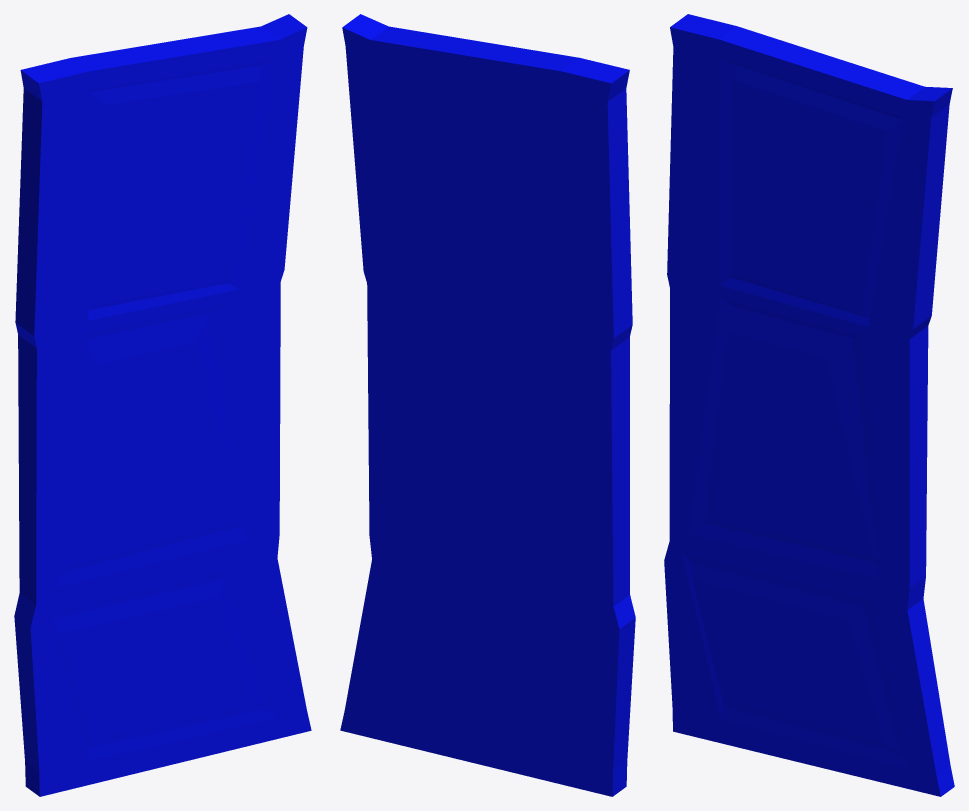
Rendered from DOUBLE_DOOR_LEFT.fbx.
3 views of the same model, side by side, from view 1: azimuth 30°, elevation 25°; view 2: azimuth 150°, elevation 25°; view 3: azimuth 330°, elevation 25° (orthographic).
Parts seen in each view (by area): view 1: LEFT; view 2: LEFT; view 3: LEFT.
Boxes of the visible parts, x1,y1,x2,y2 form: LEFT: (14,14,311,796); LEFT: (340,14,635,796); LEFT: (664,14,954,796).
Bounding box in the file's own units: 1.44 × 3.5 × 0.1771.
